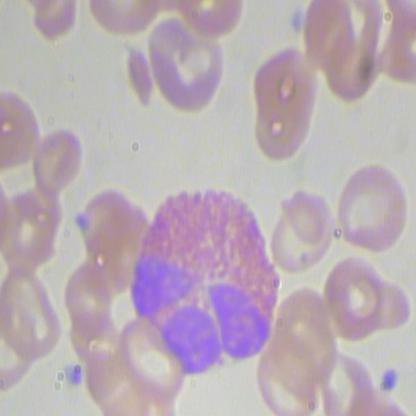Platelets: (375, 361, 402, 394), (65, 360, 85, 386)
RBC: (144, 14, 230, 119), (248, 46, 316, 166), (334, 162, 411, 254), (264, 180, 337, 271), (1, 87, 41, 180), (33, 121, 82, 192)
WBC: (124, 183, 282, 376)
